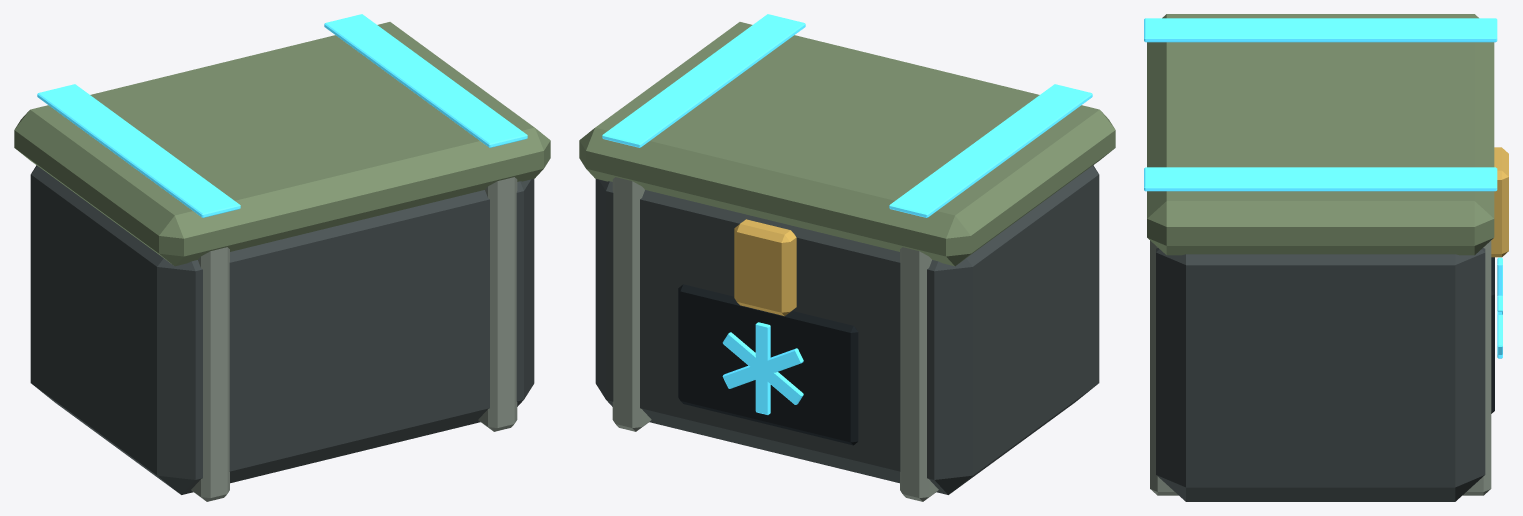
Rendered from crate_arcticlab.glb.
The picture shows the model from 3 angles, left to right: view 1: azimuth 30°, elevation 25°; view 2: azimuth 150°, elevation 25°; view 3: azimuth 270°, elevation 25°; orthographic projection. The views are drawn at different scales.
Visible parts, largest first — view 1: crate_arcticlab_RunningGear.008, crate_arcticlab_TankPaint.008, crate_arcticlab_Ice.003, crate_arcticlab_ArmorEdges.008; view 2: crate_arcticlab_RunningGear.008, crate_arcticlab_TankPaint.008, crate_arcticlab_BallSeams.003, crate_arcticlab_Ice.003, crate_arcticlab_ArmorEdges.008, crate_arcticlab_TrophyGold.003; view 3: crate_arcticlab_RunningGear.008, crate_arcticlab_TankPaint.008, crate_arcticlab_Ice.003, crate_arcticlab_ArmorEdges.008, crate_arcticlab_TrophyGold.003, crate_arcticlab_BallSeams.003.
Boxes of the visible parts, left/top/right/bottom form: crate_arcticlab_RunningGear.008: left=30, top=165, right=534, bottom=494; crate_arcticlab_TankPaint.008: left=14, top=22, right=550, bottom=266; crate_arcticlab_Ice.003: left=37, top=14, right=527, bottom=217; crate_arcticlab_ArmorEdges.008: left=191, top=177, right=517, bottom=501; crate_arcticlab_RunningGear.008: left=595, top=165, right=1099, bottom=494; crate_arcticlab_TankPaint.008: left=579, top=22, right=1115, bottom=266; crate_arcticlab_BallSeams.003: left=678, top=284, right=858, bottom=445; crate_arcticlab_Ice.003: left=602, top=14, right=1092, bottom=414; crate_arcticlab_ArmorEdges.008: left=612, top=177, right=938, bottom=501; crate_arcticlab_TrophyGold.003: left=734, top=219, right=796, bottom=316; crate_arcticlab_RunningGear.008: left=1156, top=248, right=1485, bottom=501; crate_arcticlab_TankPaint.008: left=1147, top=14, right=1494, bottom=255; crate_arcticlab_Ice.003: left=1144, top=18, right=1502, bottom=358; crate_arcticlab_ArmorEdges.008: left=1150, top=240, right=1491, bottom=495; crate_arcticlab_TrophyGold.003: left=1491, top=147, right=1508, bottom=257; crate_arcticlab_BallSeams.003: left=1491, top=257, right=1494, bottom=413.
Bounding box in the file's own units: 1.61 × 1.16 × 1.22.
